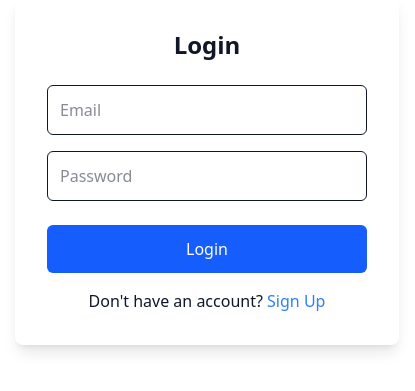
Login Component › displays error on login failure
In the field with placeholder "Email": x=207, y=110 [47, 85, 367, 135], type "fail@example.com"
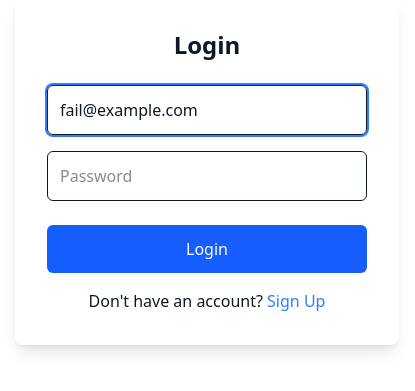
In the password field with placeholder "Password": x=207, y=176 [47, 151, 367, 201], type "wrongpass"
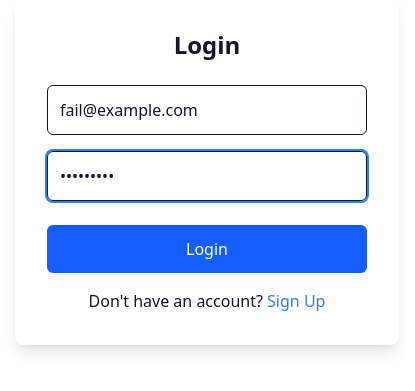
Click the button "Login": x=207, y=249 [47, 225, 367, 273]
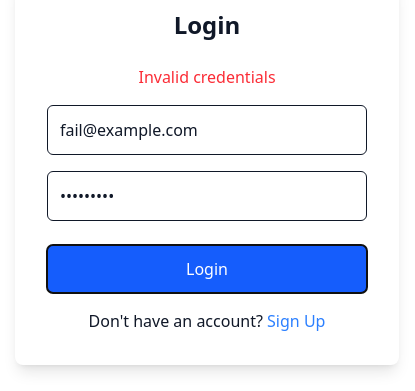
expect the text "Invalid credentials" is shown: met, box [138, 66, 276, 88]
